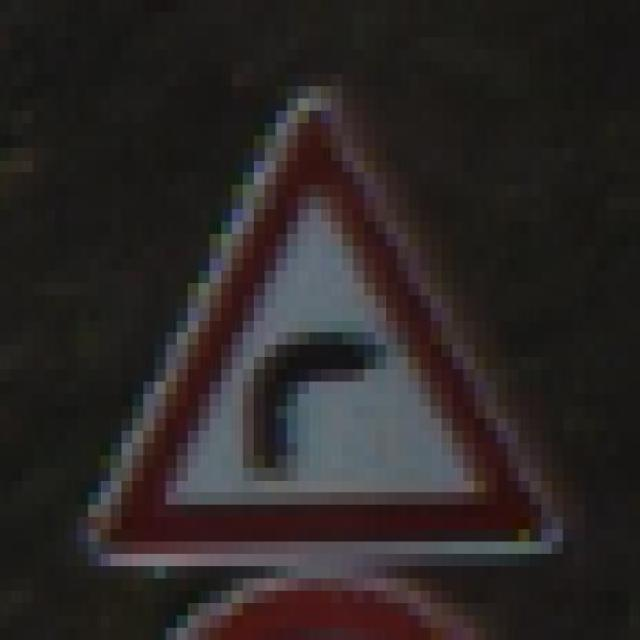Dangerous Rright Curve Ahead: (66, 62, 563, 566)
